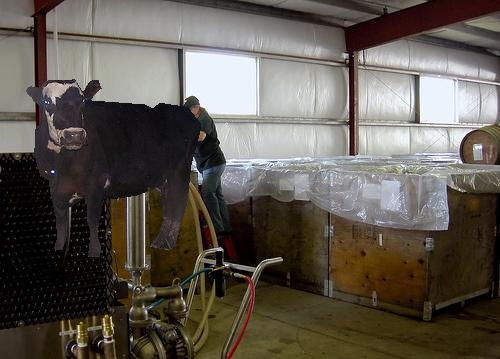tampered: (27, 80, 201, 257)
